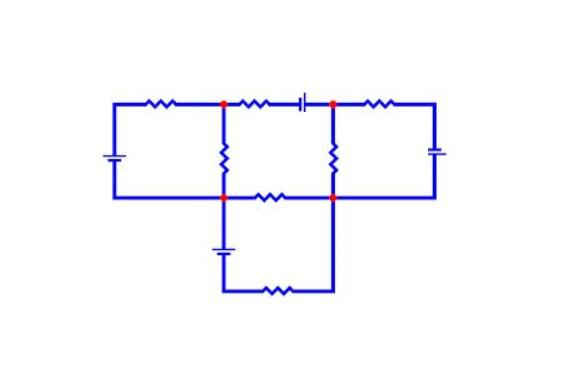resistor: (352, 86, 405, 122), (231, 89, 284, 117), (241, 181, 297, 205), (255, 275, 308, 299), (321, 136, 349, 179), (133, 89, 187, 109), (212, 132, 235, 175)
